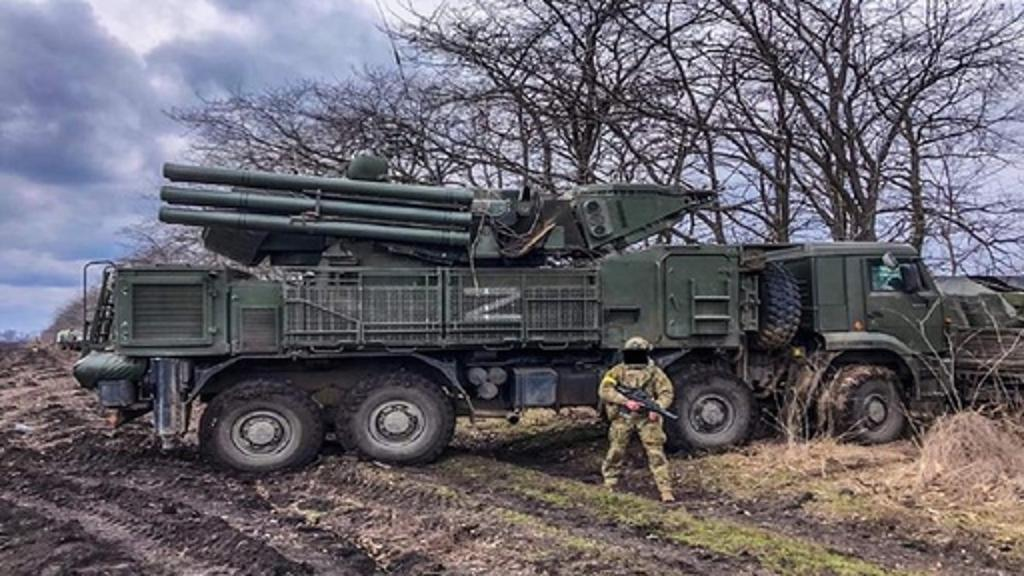MLRS: (68, 140, 946, 476)
